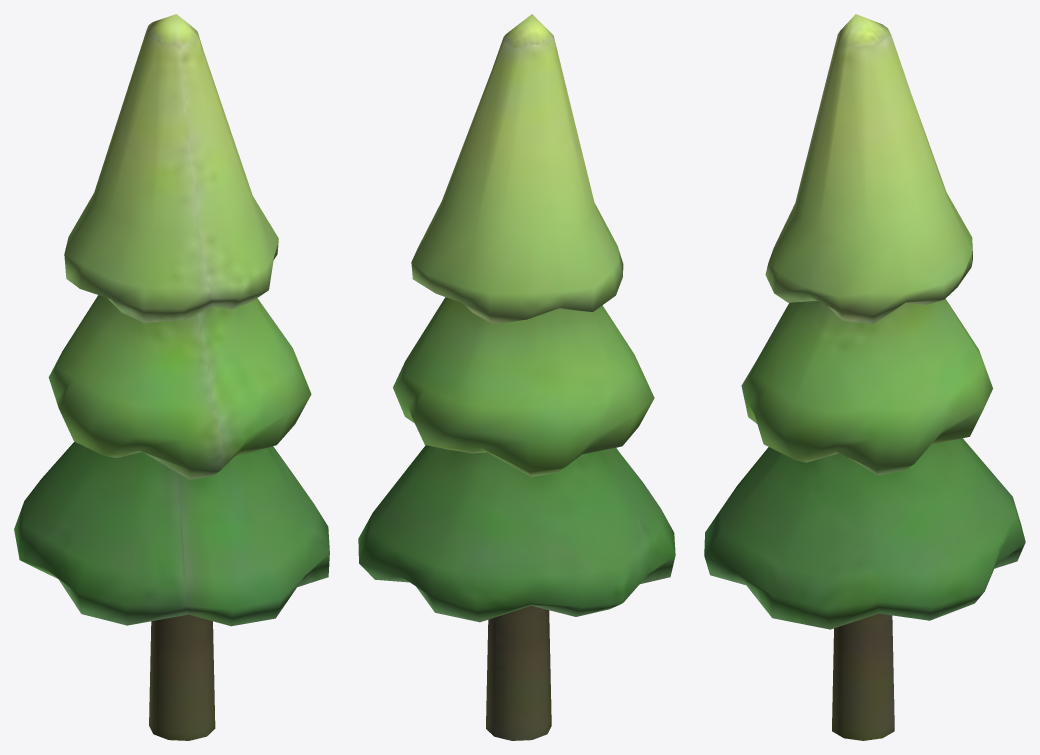
The model's file is 低多边形卡通风格松树_TREE.glb.
3 views of the same model, side by side, from view 1: azimuth 30°, elevation 25°; view 2: azimuth 150°, elevation 25°; view 3: azimuth 270°, elevation 25° (orthographic).
Parts seen in each view (by area): view 1: TREE1; view 2: TREE1; view 3: TREE1.
Part boxes in pixels (<box>): TREE1: <box>14,14,329,740</box>; TREE1: <box>358,14,675,740</box>; TREE1: <box>704,14,1025,740</box>.
Size of the model in its own units: 1.58 by 4.14 by 1.7.
1 material, 1 textured.
